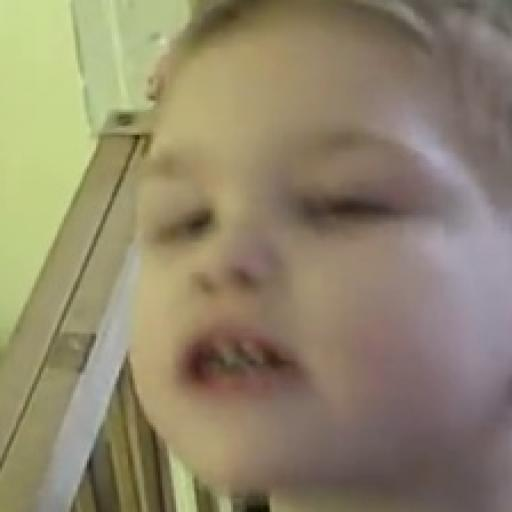Autism: (141, 4, 512, 512)
